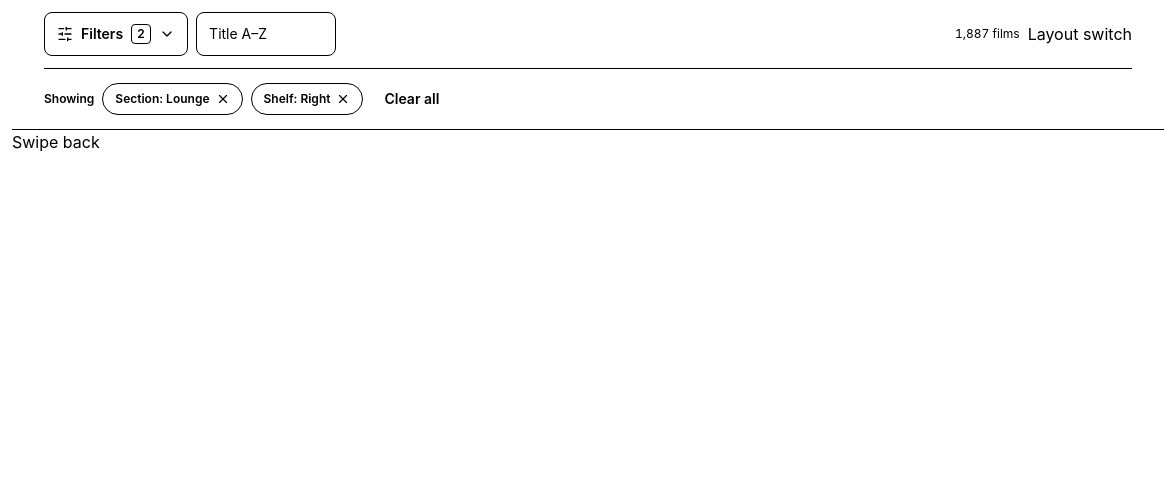
it: FilterBar — the Lounge’s sides, Mark 14 Oct › offers the Lounge’s sides as sides, with what each holds, and names the chip so
Click the button "Filters 2" at (116, 34), box [44, 12, 188, 56]
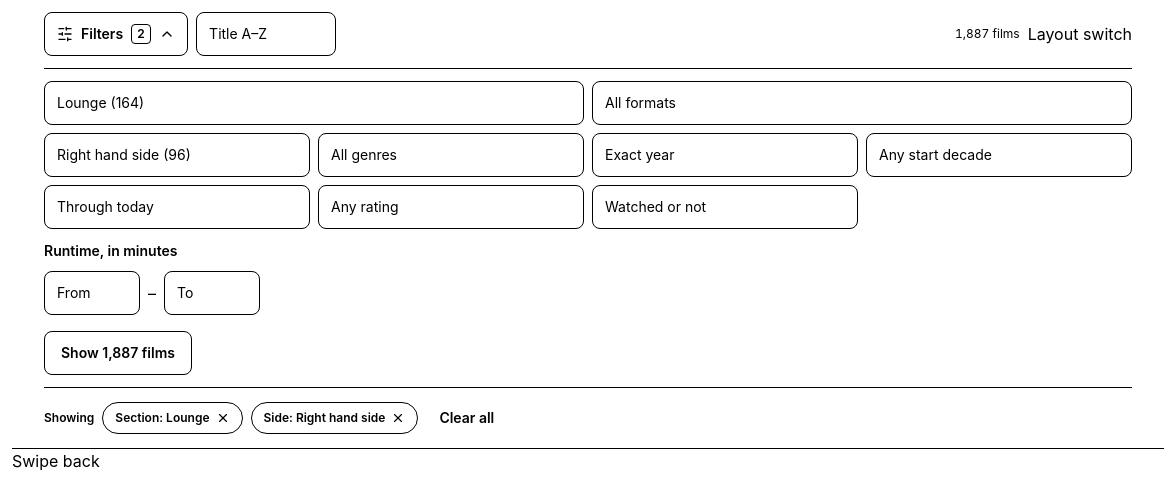
Result: the button "Side: Right hand side" is shown at [250, 402, 418, 434]
